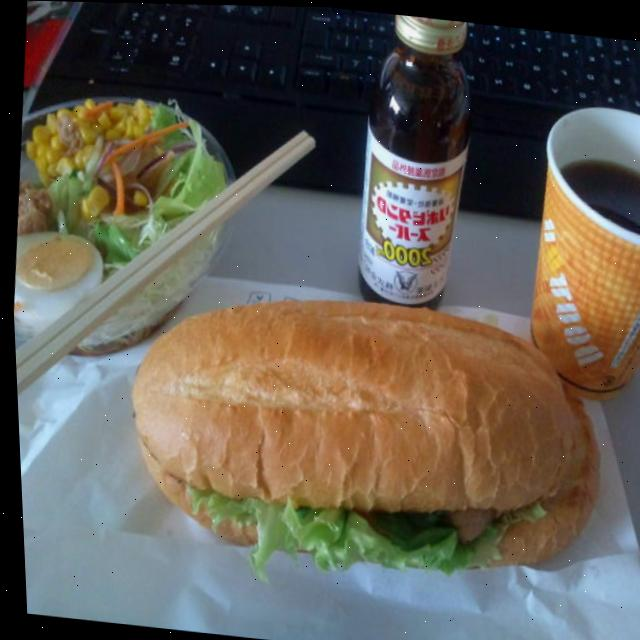三明治: (98, 269, 610, 582)
蔬菜料理: (3, 85, 247, 319)
